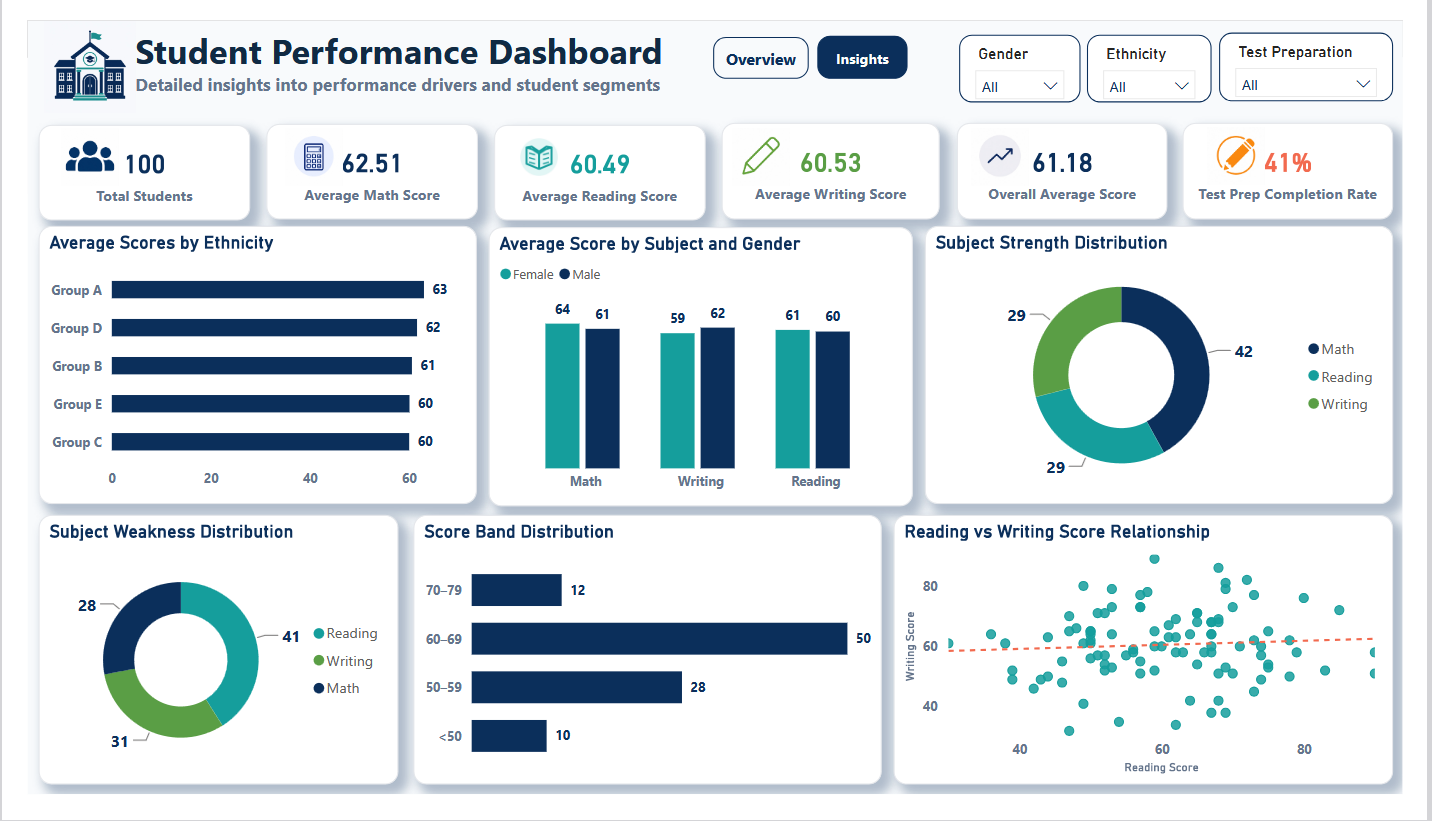

The page's visual inventory and layout, read from the dashboard file:
{"tool":"powerbi","page":{"name":"Insights","canvas":[1280,720],"ordinal":1},"visuals":[{"type":"textbox","box":[95.4,0,509,85.9],"z":0},{"type":"image","box":[0,0,115,85.8],"z":1000},{"type":"card","fields":{"Values":["Student Performance.Total Students"]},"box":[9.7,97.2,197.5,89.1],"z":2000},{"type":"card","fields":{"Values":["Student Performance.Average Math Score"]},"box":[221.8,95.5,197.5,89.1],"z":3000},{"type":"card","fields":{"Values":["Student Performance.Average Reading Score"]},"box":[434.2,97,197.2,89.1],"z":4000},{"type":"card","fields":{"Values":["Student Performance.Average Writing Score"]},"box":[645.8,95.4,203.6,89.1],"z":5000},{"type":"card","fields":{"Values":["Student Performance.Overall Average Score"]},"box":[865.3,95.4,195.6,89.1],"z":6000},{"type":"card","fields":{"Values":["Student Performance.Test Prep Completion Rate"]},"box":[1075.3,95.4,195.6,89.1],"z":7000},{"type":"clusteredBarChart","title":"Average Scores by Ethnicity","fields":{"Y":["Student Performance.Overall Average Score"],"Category":["Student Performance.Ethnicity"]},"box":[9.5,190.9,408.8,259.3],"z":8000},{"type":"clusteredColumnChart","title":"Average Score by Subject and Gender ","fields":{"Category":["Subject Table.Subject"],"Y":["Student Performance.Average Score by Subject"],"Series":["Student Performance.Gender"]},"box":[429.5,192.5,394.5,259.3],"z":9000},{"type":"donutChart","title":"Subject Strength Distribution","fields":{"Category":["Student Performance.Subject Strength"],"Y":["Student Performance.Total Students"]},"box":[835.1,190.9,435.8,259.3],"z":10000},{"type":"donutChart","title":"Subject Weakness Distribution","fields":{"Category":["Student Performance.Subject Weakness"],"Y":["Student Performance.Total Students"]},"box":[9.5,459.7,335.6,251.3],"z":11000},{"type":"clusteredBarChart","title":"Score Band Distribution","fields":{"Y":["Student Performance.Total Students"],"Category":["Student Performance.Score Band"]},"box":[359.5,459.7,435.8,251.3],"z":12000},{"type":"image","box":[28.6,100.2,57.3,54.1],"z":13000},{"type":"image","box":[237,100.2,57.3,54.1],"z":14000},{"type":"image","box":[447,100.2,57.3,54.1],"z":15000},{"type":"image","box":[653.7,100.2,57.3,54.1],"z":16000},{"type":"image","box":[876.4,100.2,57.3,54.1],"z":17000},{"type":"image","box":[1095.9,98.6,57.3,54.1],"z":18000},{"type":"actionButton","box":[637.8,14.7,89.1,39.8],"z":19000},{"type":"actionButton","box":[734.9,14.3,84.3,39.8],"z":20000},{"type":"scatterChart","title":"Reading vs Writing Score Relationship","fields":{"X":["Sum(Student Performance.Reading Score)"],"Y":["Sum(Student Performance.Writing Score)"],"Category":["Student Performance.Student ID"]},"box":[806.4,459.7,464.5,251.3],"z":21000},{"type":"slicer","fields":{"Values":["Student Performance.Gender"]},"box":[866.9,12.7,112.9,63.6],"z":21001},{"type":"slicer","fields":{"Values":["Student Performance.Ethnicity"]},"box":[986.2,12.7,116.1,63.6],"z":21002},{"type":"slicer","fields":{"Values":["Student Performance.Test Preparation"]},"box":[1108.7,11.1,162.2,63.6],"z":21003}]}

Visuals, with their boxes in screenshot pixels (x1, y1, x2, y2), scaled from the page's 1280x720 canvas onto the 1432x821 screenshot:
textbox: 107:0:676:98
image: 0:0:129:98
card - Student Performance.Total Students: 11:111:232:212
card - Student Performance.Average Math Score: 248:109:469:210
card - Student Performance.Average Reading Score: 486:111:706:212
card - Student Performance.Average Writing Score: 722:109:950:210
card - Student Performance.Overall Average Score: 968:109:1187:210
card - Student Performance.Test Prep Completion Rate: 1203:109:1422:210
"Average Scores by Ethnicity" clusteredBarChart: 11:218:468:513
"Average Score by Subject and Gender " clusteredColumnChart: 481:220:922:515
"Subject Strength Distribution" donutChart: 934:218:1422:513
"Subject Weakness Distribution" donutChart: 11:524:386:811
"Score Band Distribution" clusteredBarChart: 402:524:890:811
image: 32:114:96:176
image: 265:114:329:176
image: 500:114:564:176
image: 731:114:795:176
image: 980:114:1045:176
image: 1226:112:1290:174
actionButton: 714:17:813:62
actionButton: 822:16:916:62
"Reading vs Writing Score Relationship" scatterChart: 902:524:1422:811
slicer - Student Performance.Gender: 970:14:1096:87
slicer - Student Performance.Ethnicity: 1103:14:1233:87
slicer - Student Performance.Test Preparation: 1240:13:1422:85
